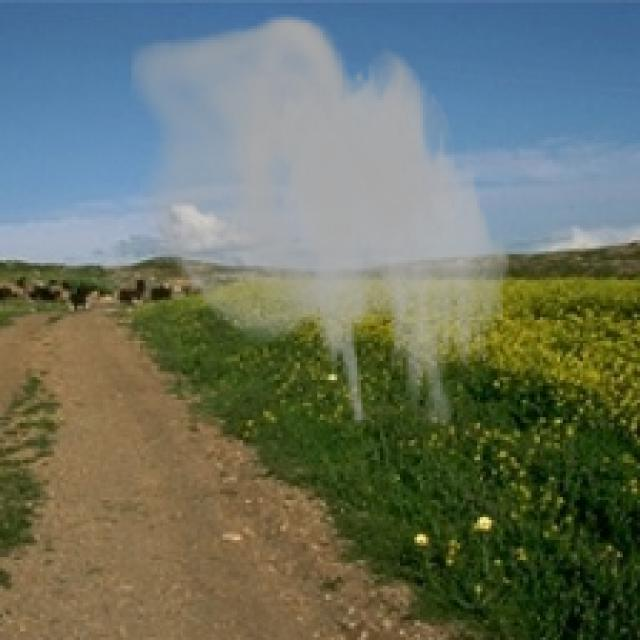smoke: (129, 14, 514, 426)
